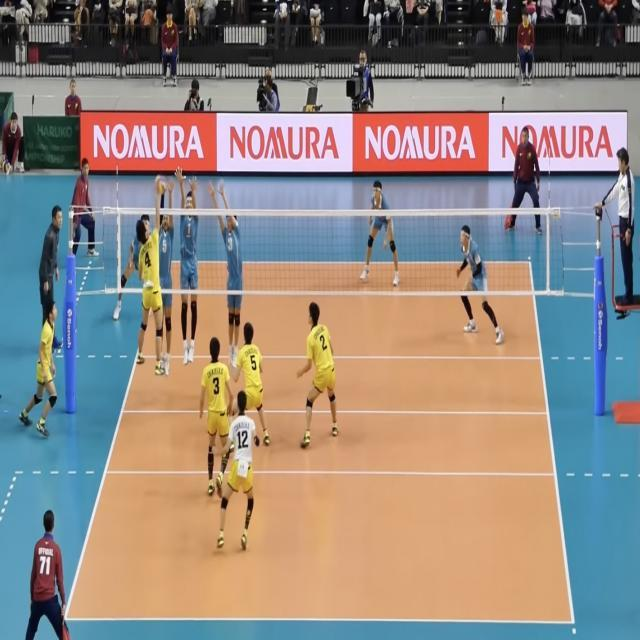spike: (134, 172, 172, 380)
